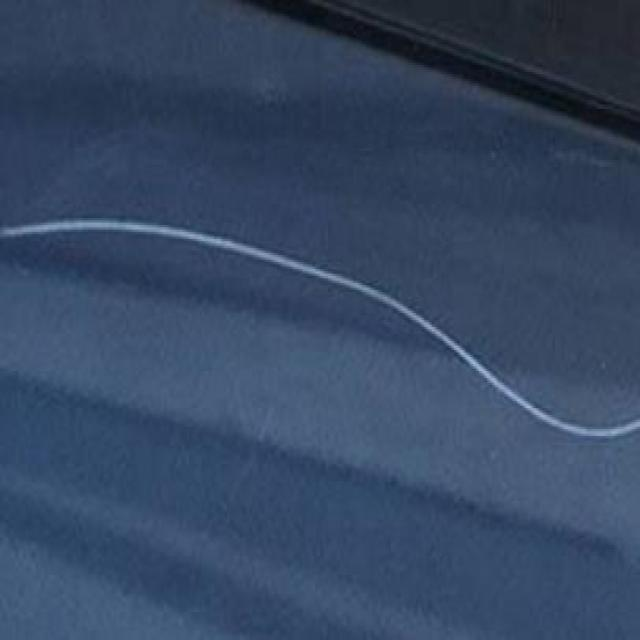scratch: (8, 214, 640, 448)
